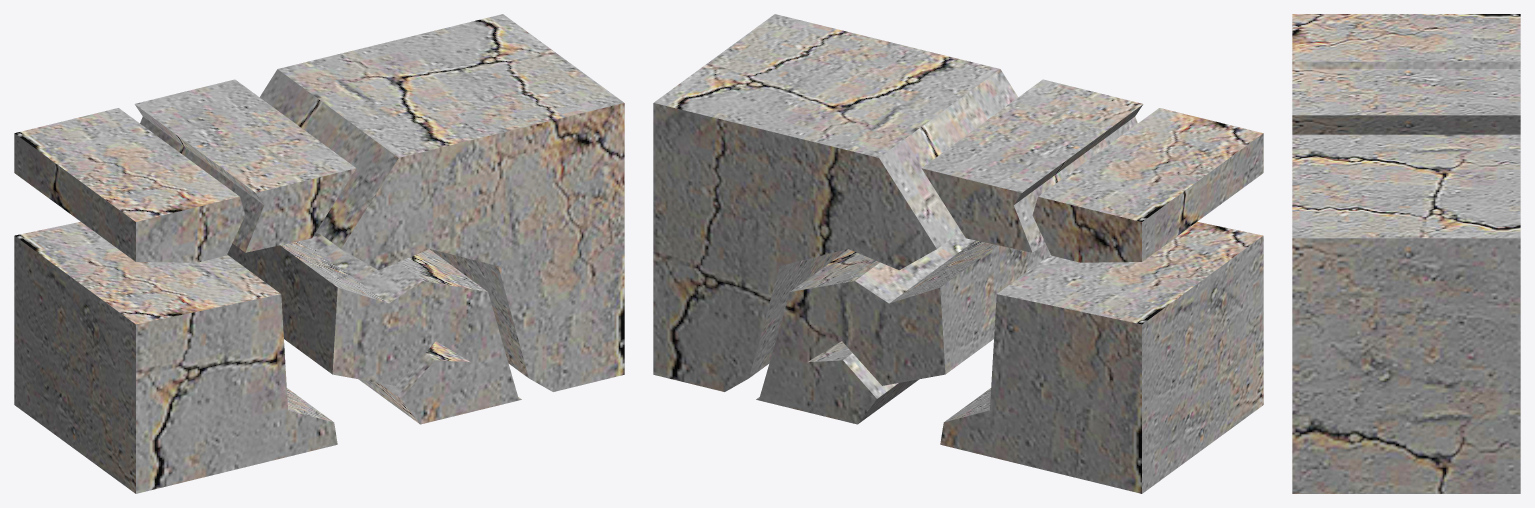
File: Minus.FBX
3 renders of one model, left to right at view 1: azimuth 30°, elevation 25°; view 2: azimuth 150°, elevation 25°; view 3: azimuth 270°, elevation 25°, orthographic. The views are drawn at different scales.
Parts seen in each view (by area): view 1: Minus; view 2: Minus; view 3: Minus.
Boxes of the visible parts, <box> form: Minus: <box>14,14,624,493</box>; Minus: <box>653,14,1263,493</box>; Minus: <box>1292,14,1520,493</box>.
Bounding box in the file's own units: 34.85 × 18.53 × 15.
Materials: 1 (1 with a texture image).
